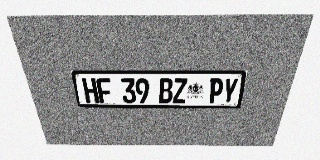3: (121, 78, 136, 103)
9: (135, 78, 150, 103)
B: (159, 78, 173, 103)
F: (96, 78, 113, 103)
H: (82, 78, 99, 103)
P: (207, 78, 224, 103)
Y: (221, 78, 239, 103)
Z: (173, 78, 187, 103)
